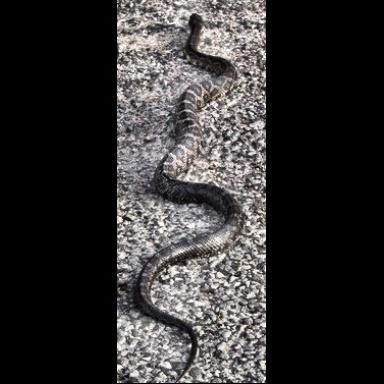snake: (130, 13, 240, 379)
